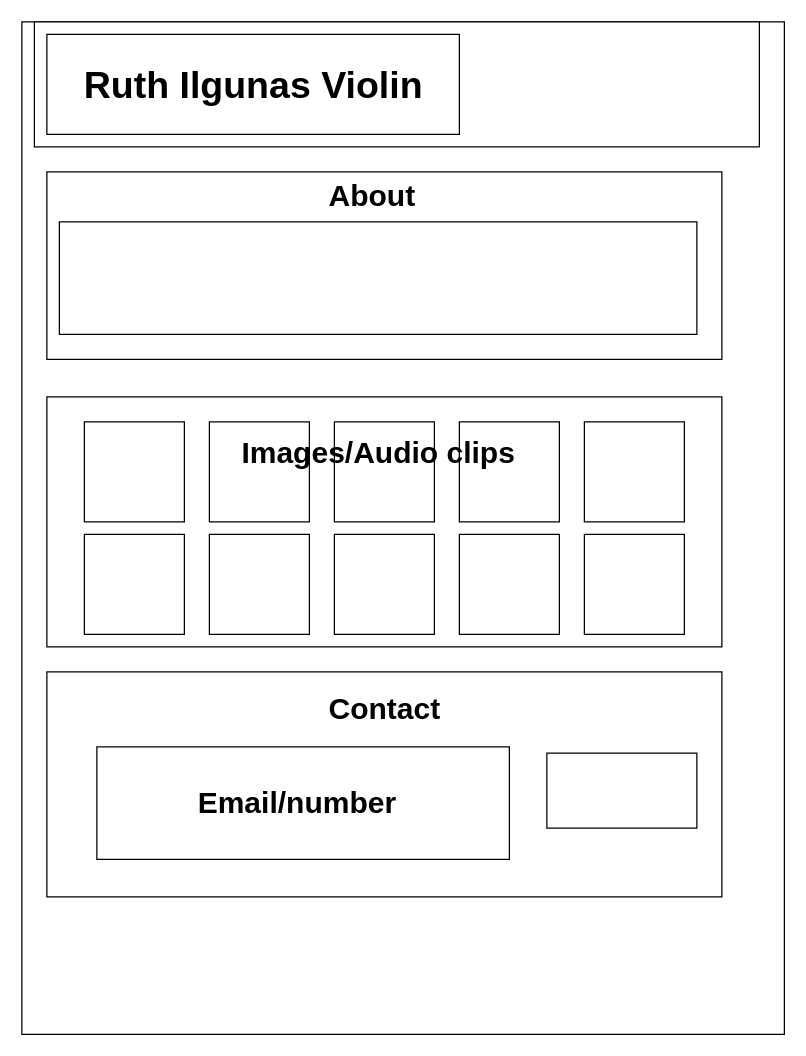
This 806x1056 diagram has some shape labels left out. Each missing label, with the box of its shape:
Blurb - to include reference to location and potential pricing ball park.: (58, 221, 697, 334)
Calendar: (546, 752, 697, 828)
